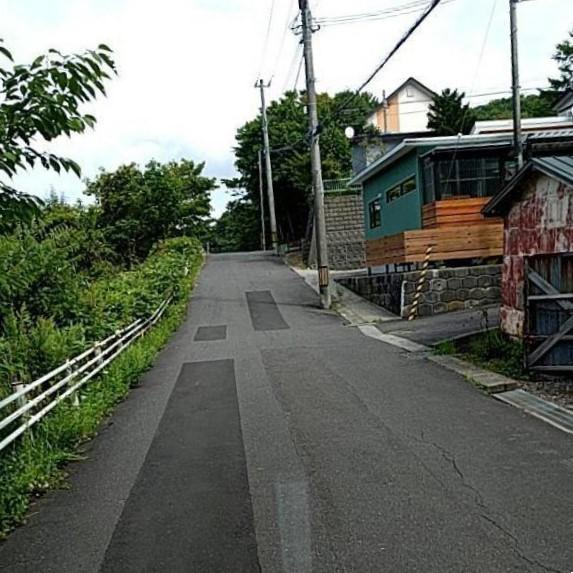Sambungan: (97, 359, 264, 573), (244, 289, 290, 332), (195, 324, 229, 342)
